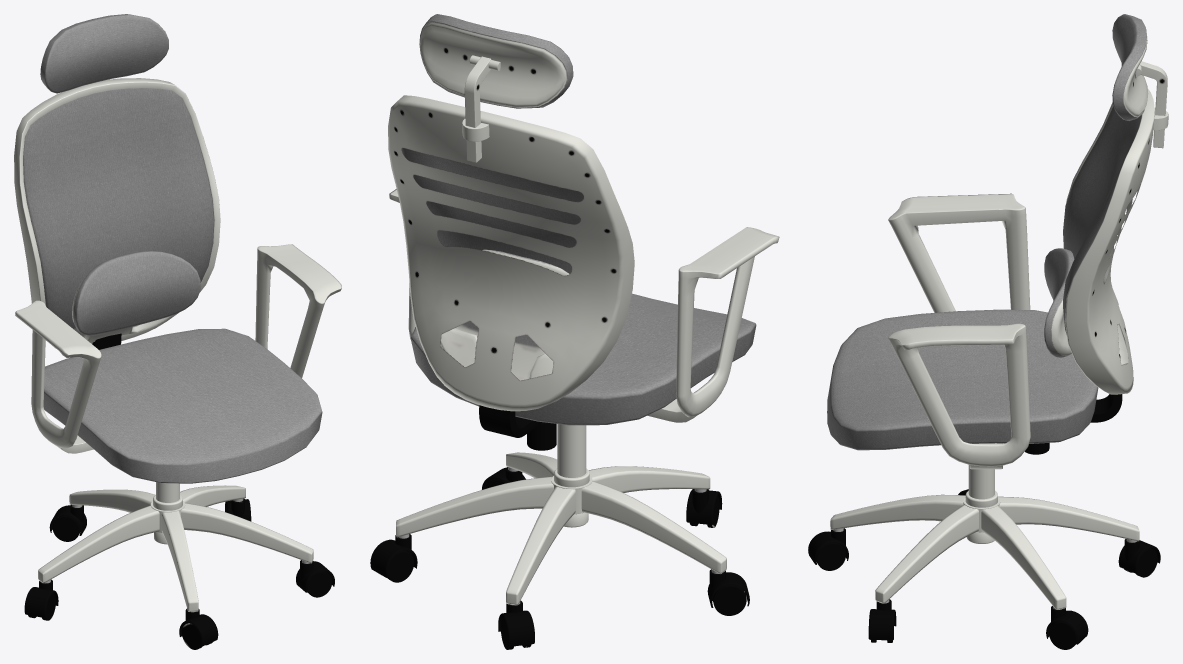
File: chair_41.001.fbx
The picture shows the model from 3 angles, left to right: view 1: azimuth 30°, elevation 25°; view 2: azimuth 150°, elevation 25°; view 3: azimuth 270°, elevation 25°; orthographic projection. The views are drawn at different scales.
Parts seen in each view (by area): view 1: chair_41.001; view 2: chair_41.001; view 3: chair_41.001.
Part boxes in pixels (x1,y1,x2,y2): chair_41.001: (14, 14, 341, 649); chair_41.001: (370, 14, 779, 649); chair_41.001: (808, 14, 1168, 649).
Size of the model in its own units: 66.32 by 114 by 67.18.
Materials: 1 (1 with a texture image).
